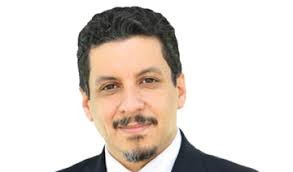middle_eastern_male: (78, 24, 187, 162)
